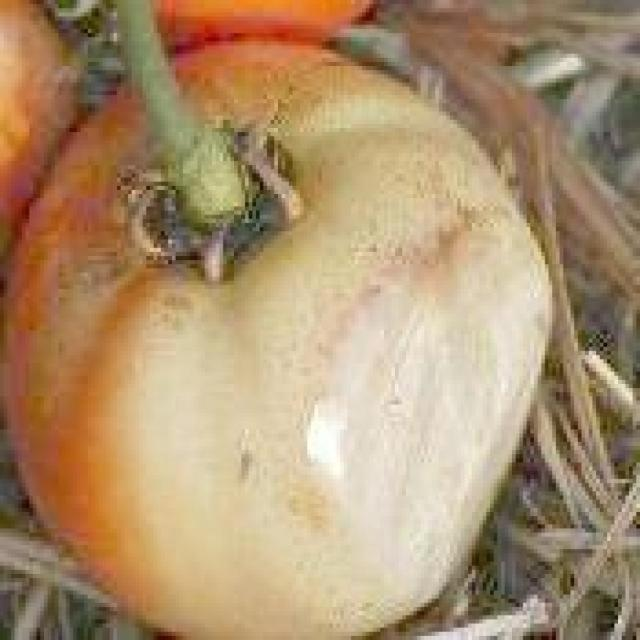Sunscald Fruit: (202, 125, 368, 412)
